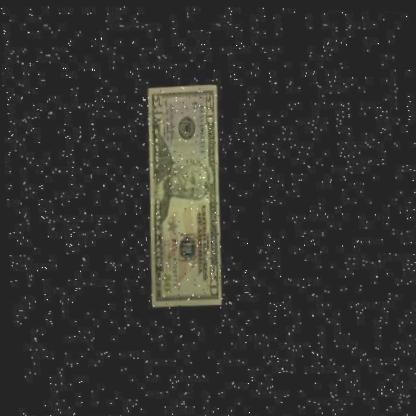dollar_front: (139, 82, 232, 314)
